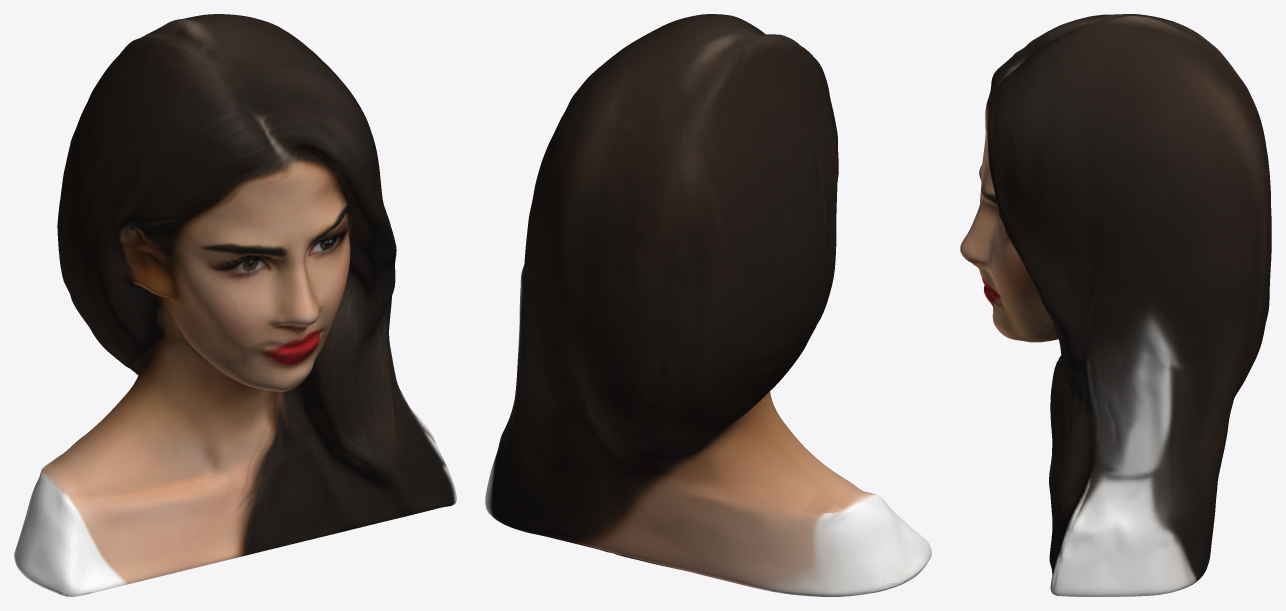
3 views of the same model, side by side, from view 1: azimuth 30°, elevation 25°; view 2: azimuth 150°, elevation 25°; view 3: azimuth 270°, elevation 25° (orthographic). The views are drawn at different scales.
Parts seen in each view (by area): view 1: tmpd_l4hagu.ply; view 2: tmpd_l4hagu.ply; view 3: tmpd_l4hagu.ply.
Boxes of the visible parts, x1,y1,x2,y2 form: tmpd_l4hagu.ply: (14,14,456,596); tmpd_l4hagu.ply: (485,14,931,596); tmpd_l4hagu.ply: (960,14,1271,596).
Size of the model in its own units: 1.66 by 1.96 by 1.16.
Materials: 1 (1 with a texture image).
